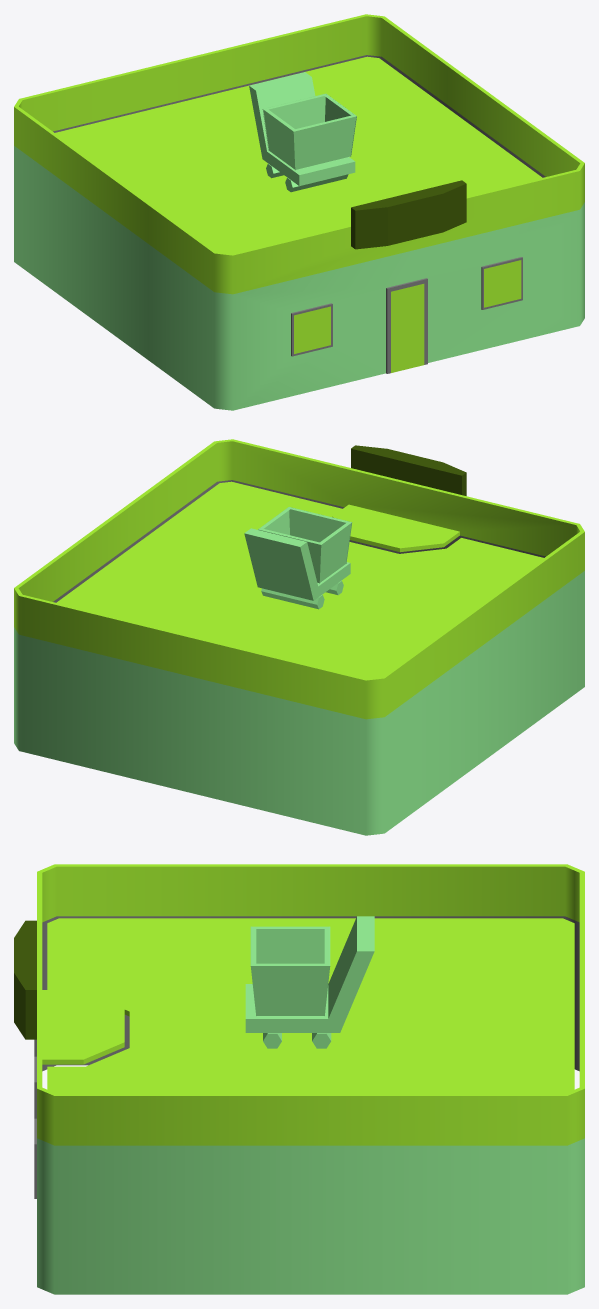
Rendered from yeterda.fbx.
3 views of the same model, one above another, from view 1: azimuth 30°, elevation 25°; view 2: azimuth 150°, elevation 25°; view 3: azimuth 270°, elevation 25° (orthographic). The views are drawn at different scales.
Visible parts, largest first — view 1: Group1; view 2: Group1; view 3: Group1.
Part boxes in pixels (<box>): Group1: <box>14,14,584,410</box>; Group1: <box>14,439,584,835</box>; Group1: <box>14,864,584,1294</box>.
Size of the model in its own units: 1000 by 496 by 1042.
